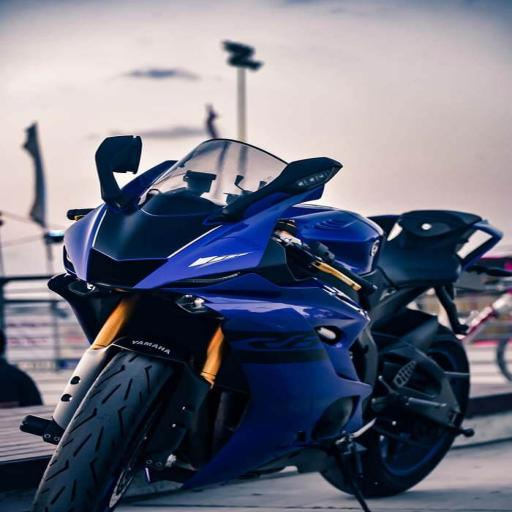bike-detection: (5, 127, 512, 510), (2, 129, 512, 508)
